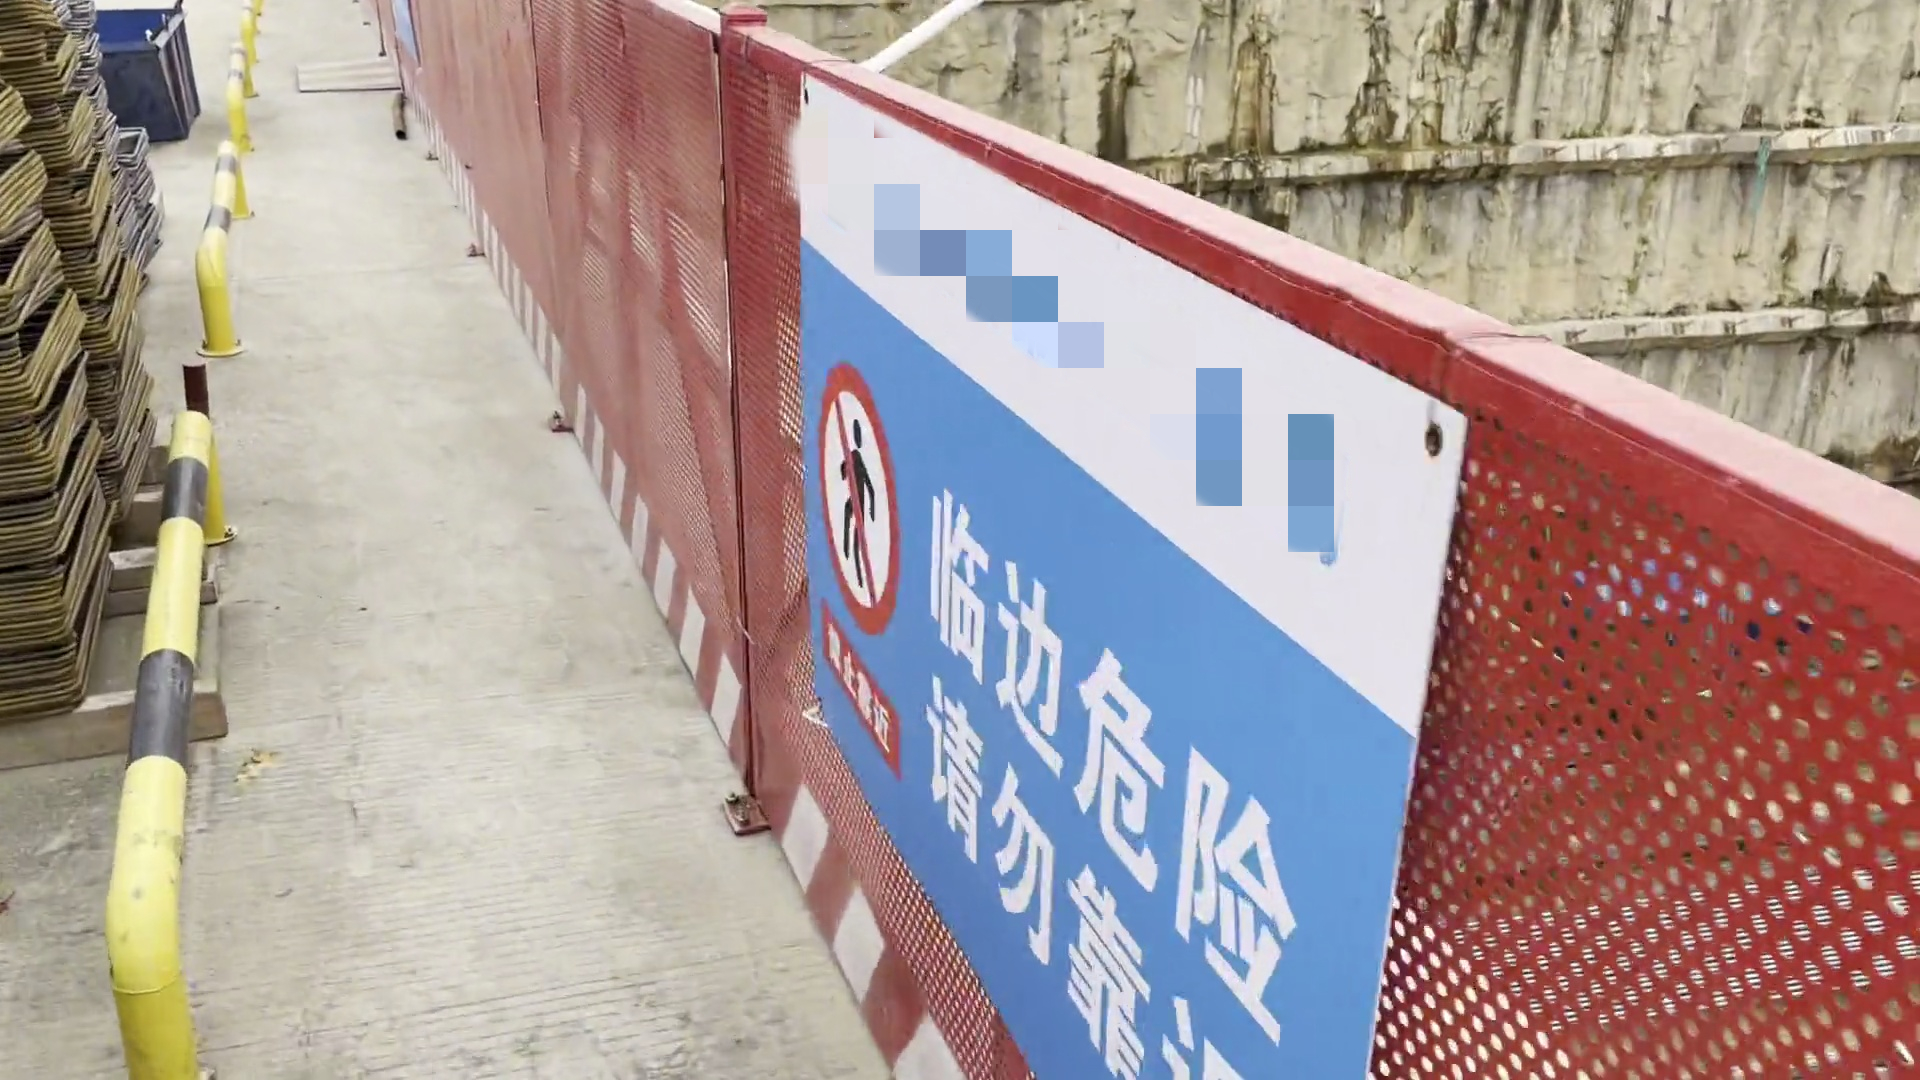fence: (1048, 145, 1920, 1080), (360, 1, 1051, 1080)
hopper: (96, 7, 225, 152)
slogan: (771, 58, 1493, 1080), (373, 1, 448, 69)
